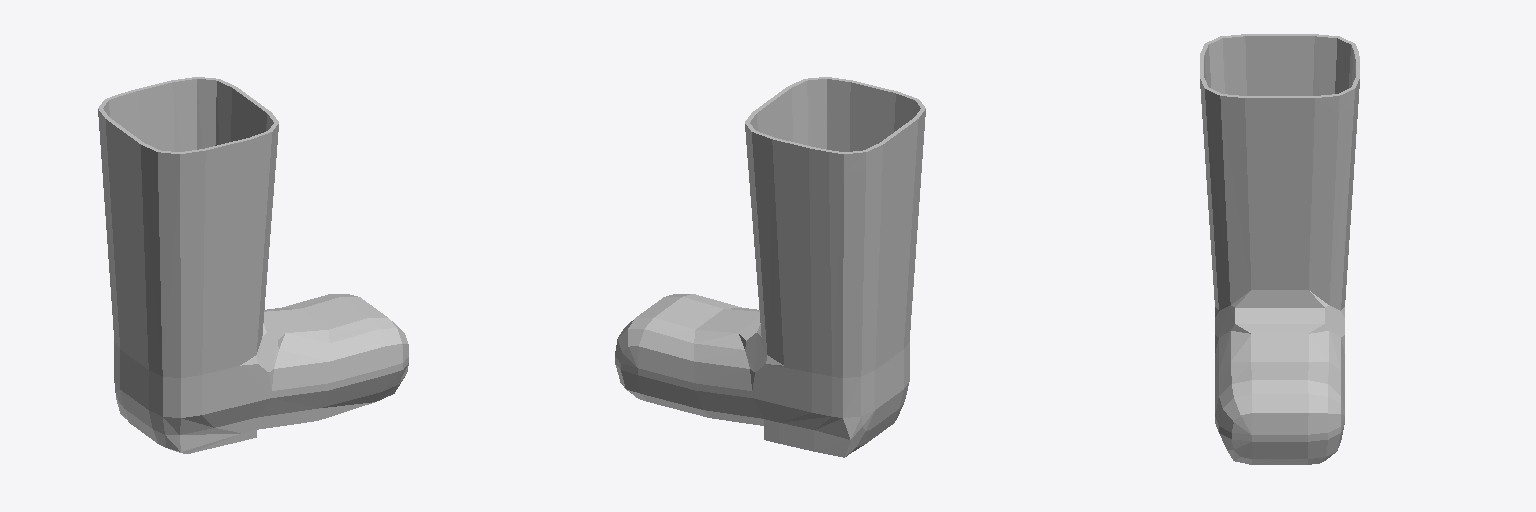
File: Rubber boot.obj
3 views of the same model, side by side, from view 1: azimuth 30°, elevation 25°; view 2: azimuth 150°, elevation 25°; view 3: azimuth 270°, elevation 25° (orthographic).
Parts seen in each view (by area): view 1: Box002; view 2: Box002; view 3: Box002.
Boxes of the visible parts, <box> form: Box002: <box>98,77,408,453</box>; Box002: <box>615,77,925,457</box>; Box002: <box>1200,34,1359,464</box>.
Size of the model in its own units: 606176 by 683374 by 316914.